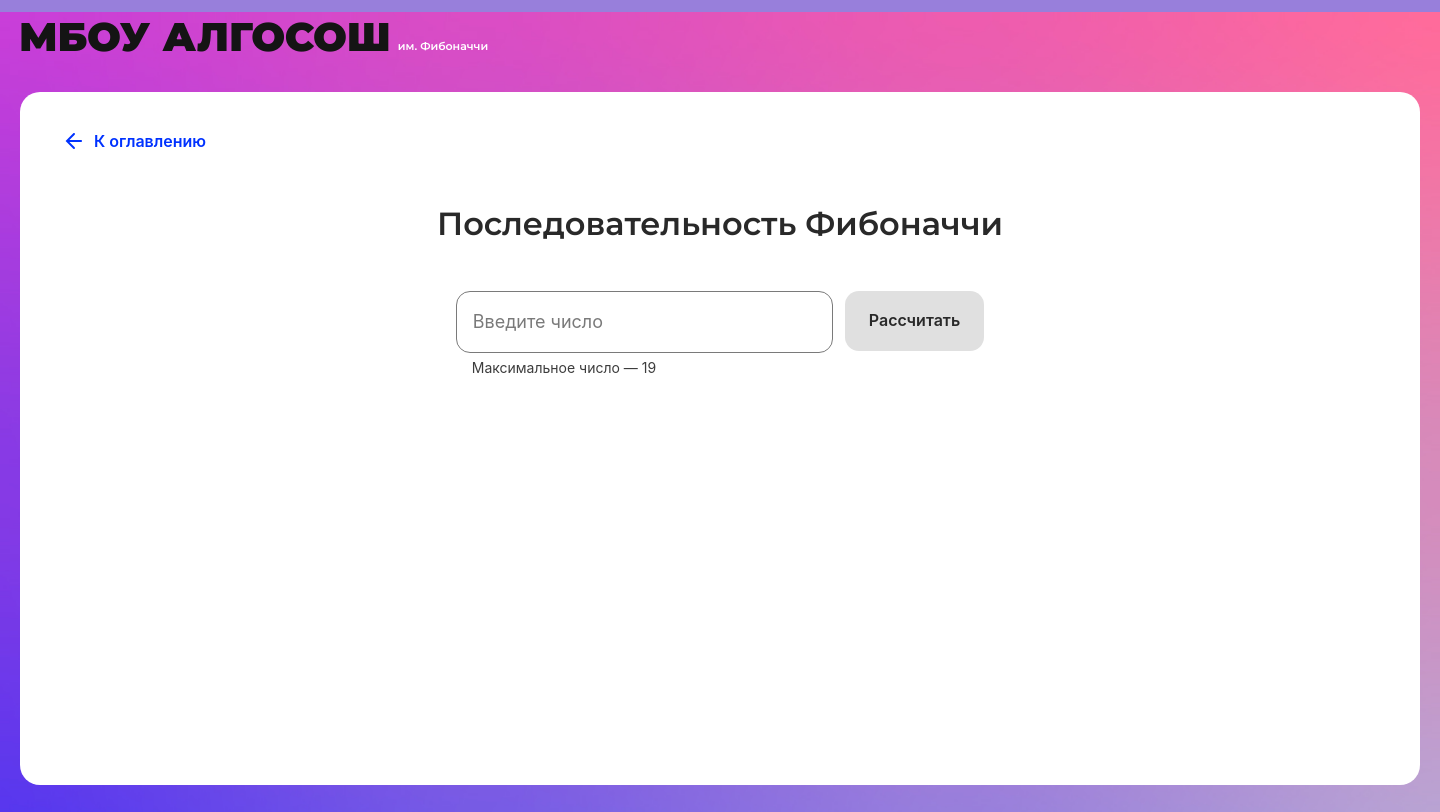
Test: fibonacci algorithm › number check
Type "10" into the number field with placeholder "Введите число".
click(645, 322); type("10")  # box [456, 291, 833, 353]
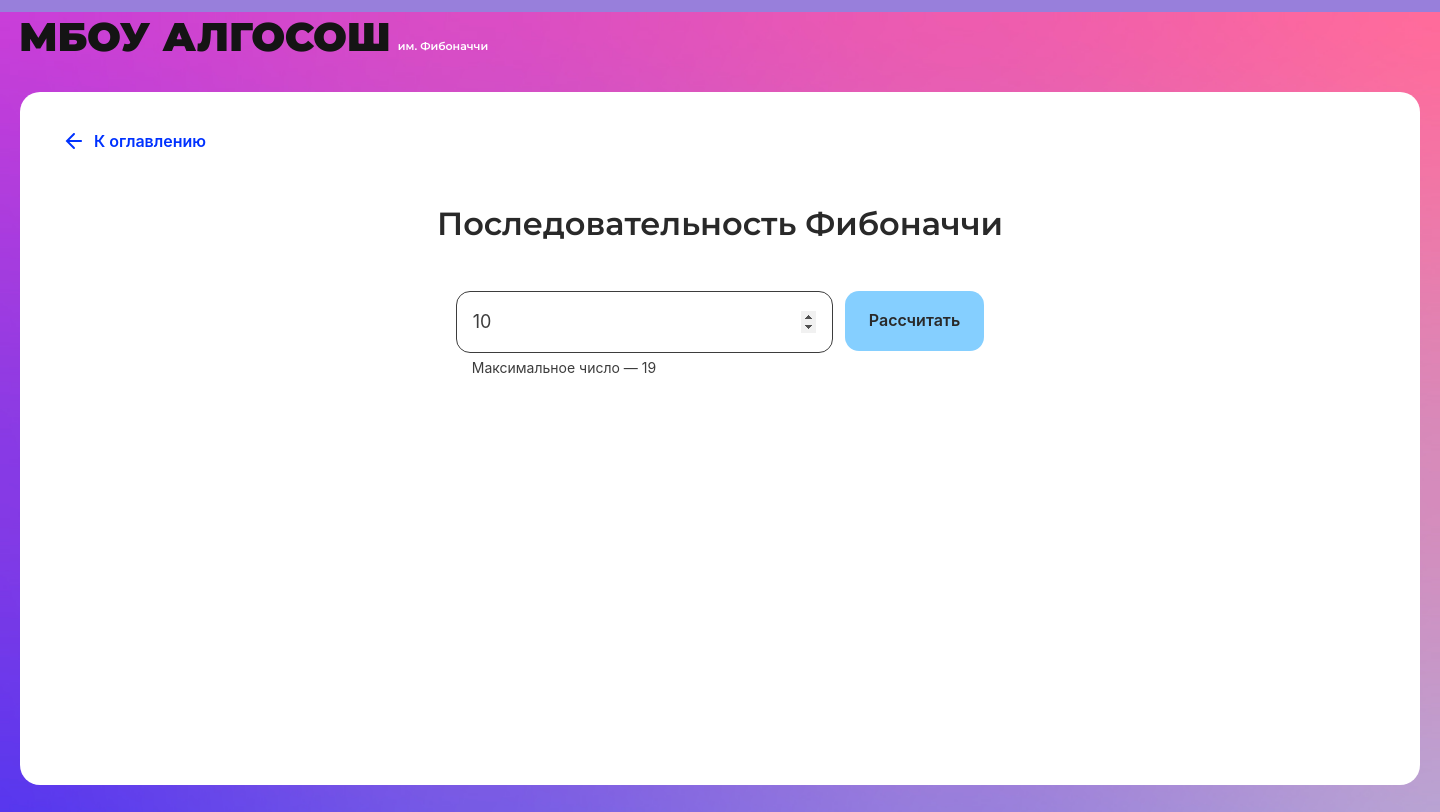
Expected: the button with test id "fibonacci-solution" is enabled
Click the button with test id "fibonacci-solution".
click(915, 321)  # box [845, 291, 984, 351]
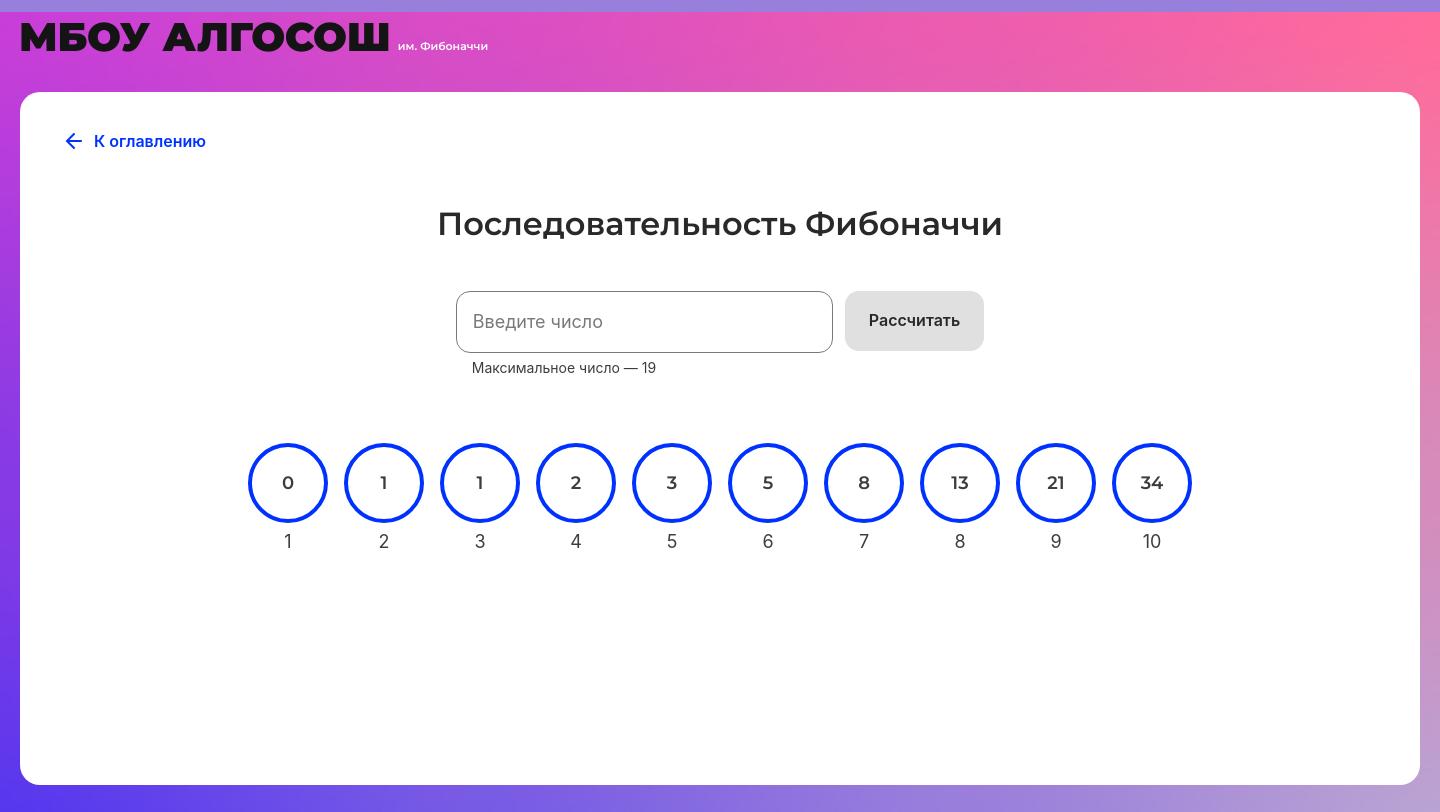
Expected: the button with test id "fibonacci-solution" is disabled, [845, 291, 984, 351]
Expected: the number of elements with test id "circle" is 10
Expected: the number field with placeholder "Введите число" is empty, [456, 291, 833, 353]
